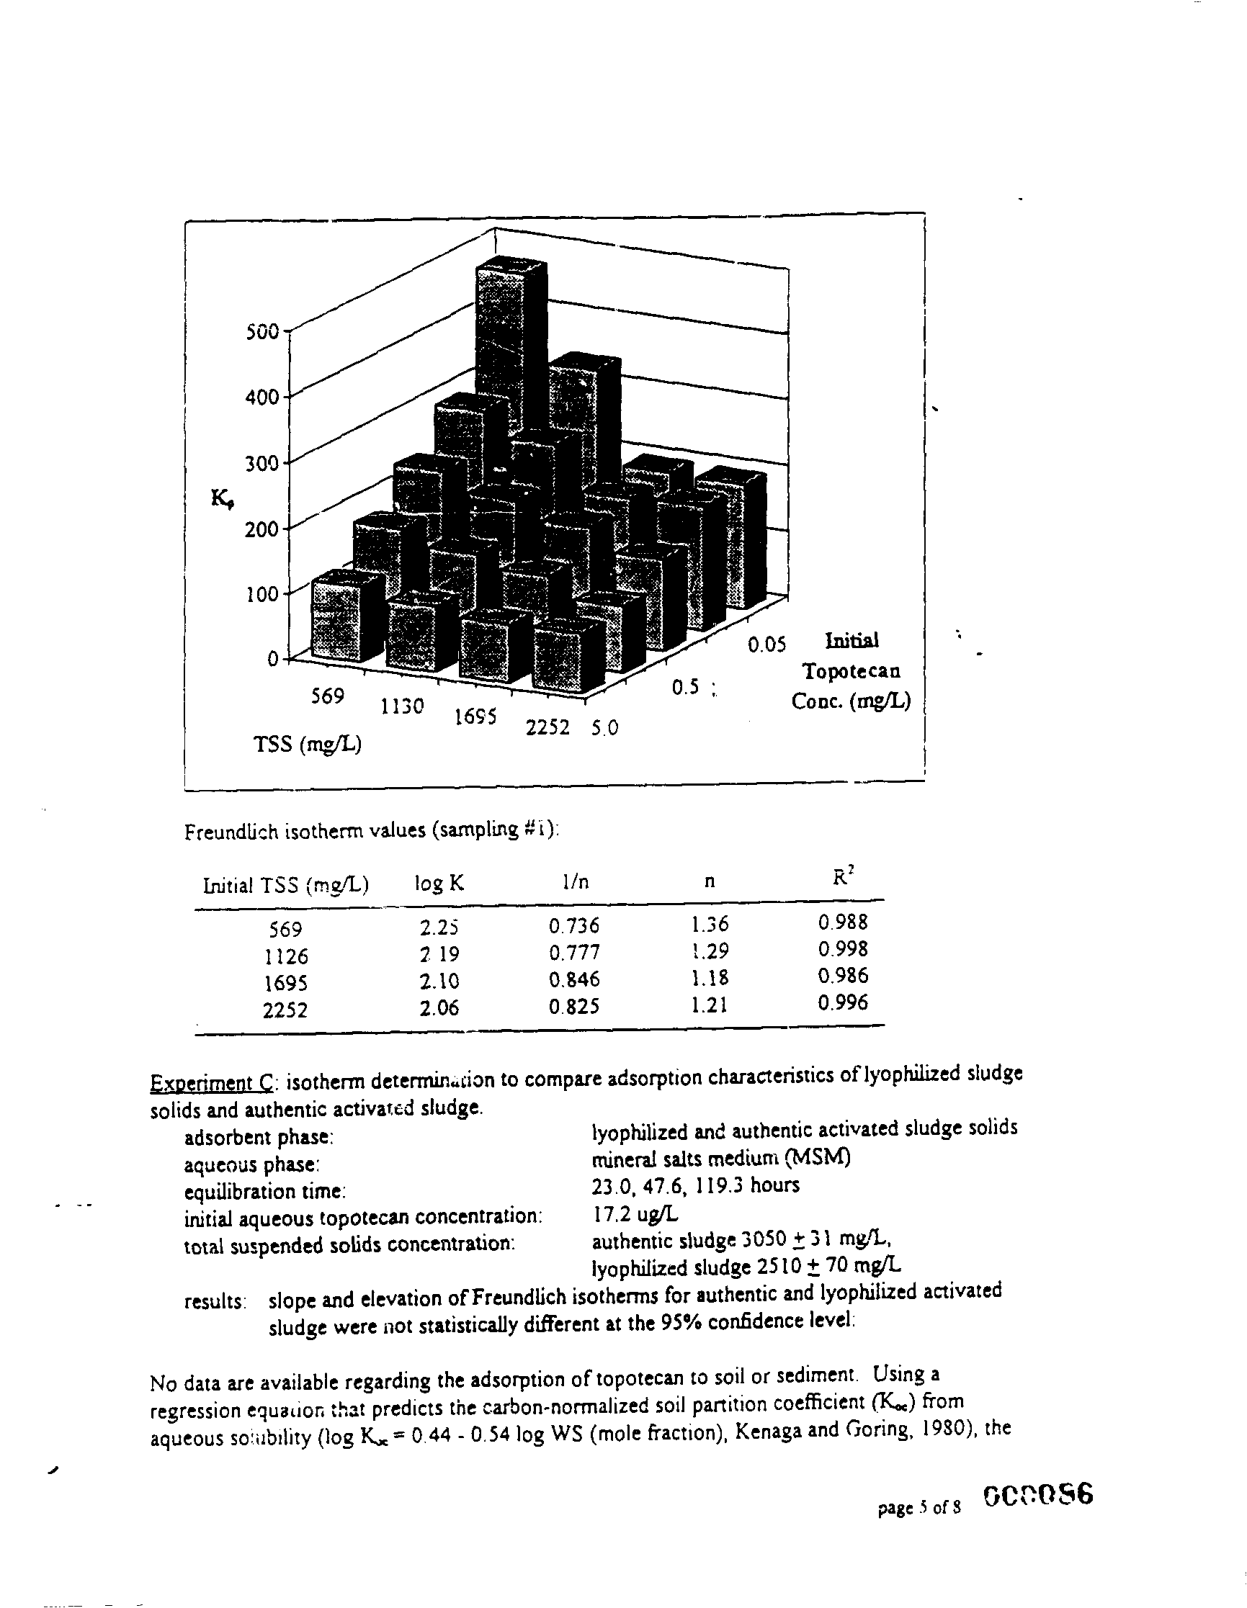partial_lined: (188, 858, 889, 1039)
